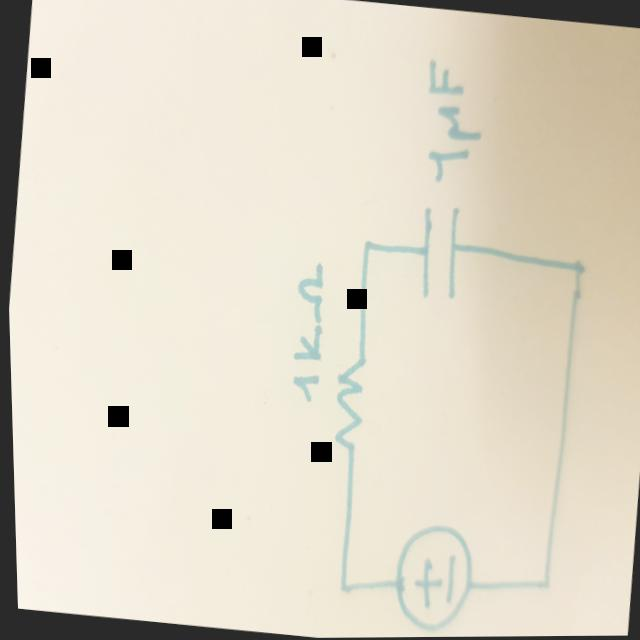capacitor: (408, 199, 465, 311)
junction: (531, 569, 551, 595), (358, 236, 378, 260), (569, 256, 587, 280), (332, 574, 349, 594)
resistor: (326, 346, 372, 456)
source: (384, 517, 476, 636)
text: (414, 58, 491, 185), (279, 255, 332, 402)
